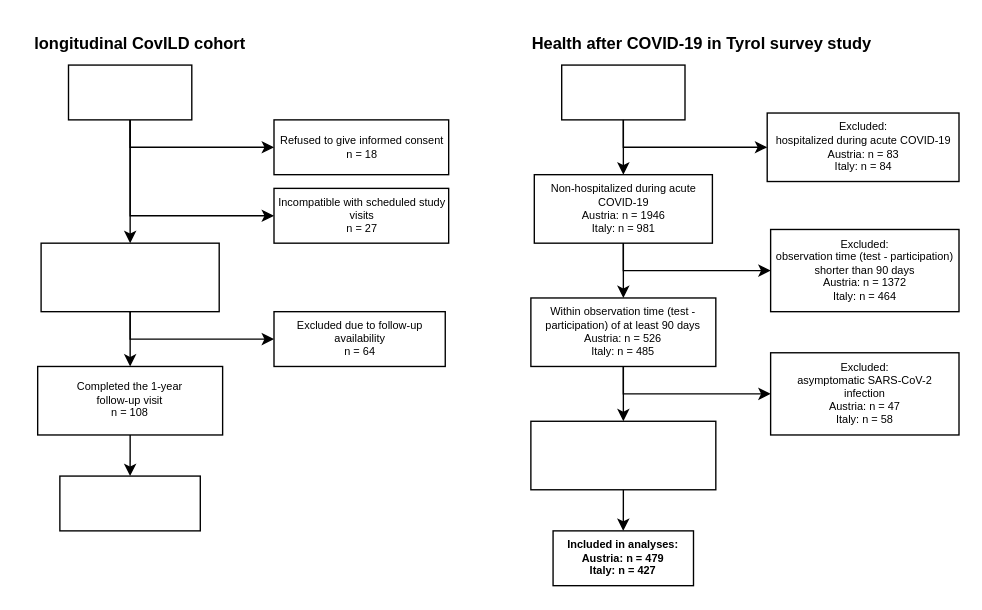
The diagram is 982 pixels wide and 610 high, and some of its shapes have lost their labels. The shapes that lost their labels are listed below. From the top down, each one's centre as x and y in pixels, then its label:
the point at 129,92: Screened for participation n = 190
the point at 622,92: Recruited Austria: n = 2065 Italy: n = 1075
the point at 129,277: Recruited n = 145
the point at 623,455: Symptomatic COVID-19 Austria: n = 479 Italy: n = 427
the point at 129,503: Included in analyses: n = 108
